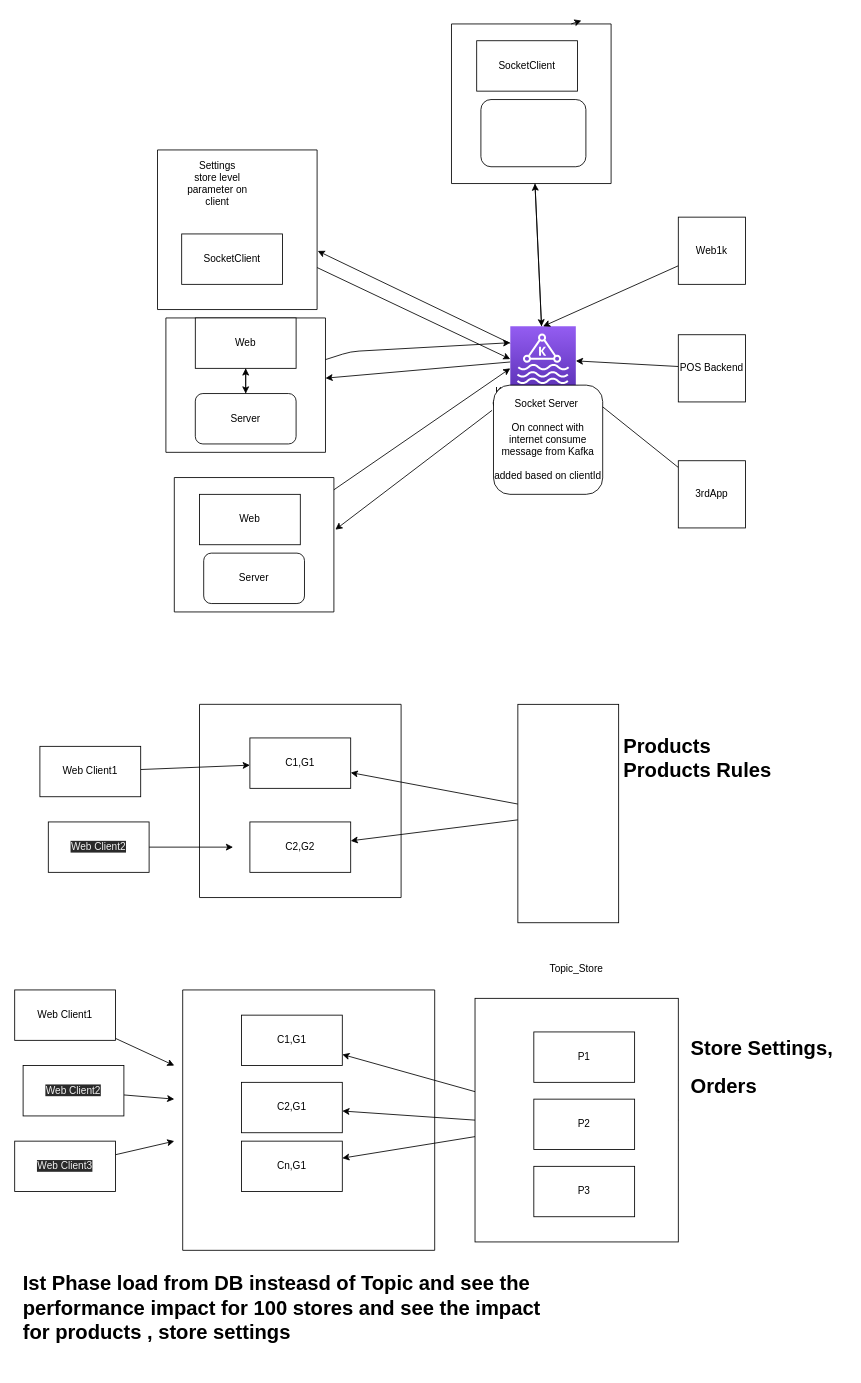
This 861x1383 diagram has some shape labels left out. Here are the shapes that lost their labels. From the top down, the box of each, then its label:
(480, 99, 586, 167): Socket Server On connect with internet consume message from Kafka
(517, 704, 619, 923): All_Topic
(182, 989, 435, 1250): Service
